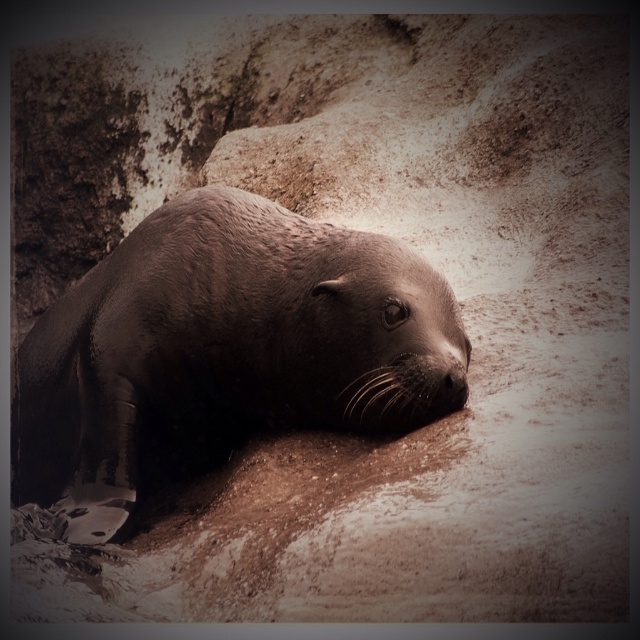Sea lion: (6, 182, 471, 541)
